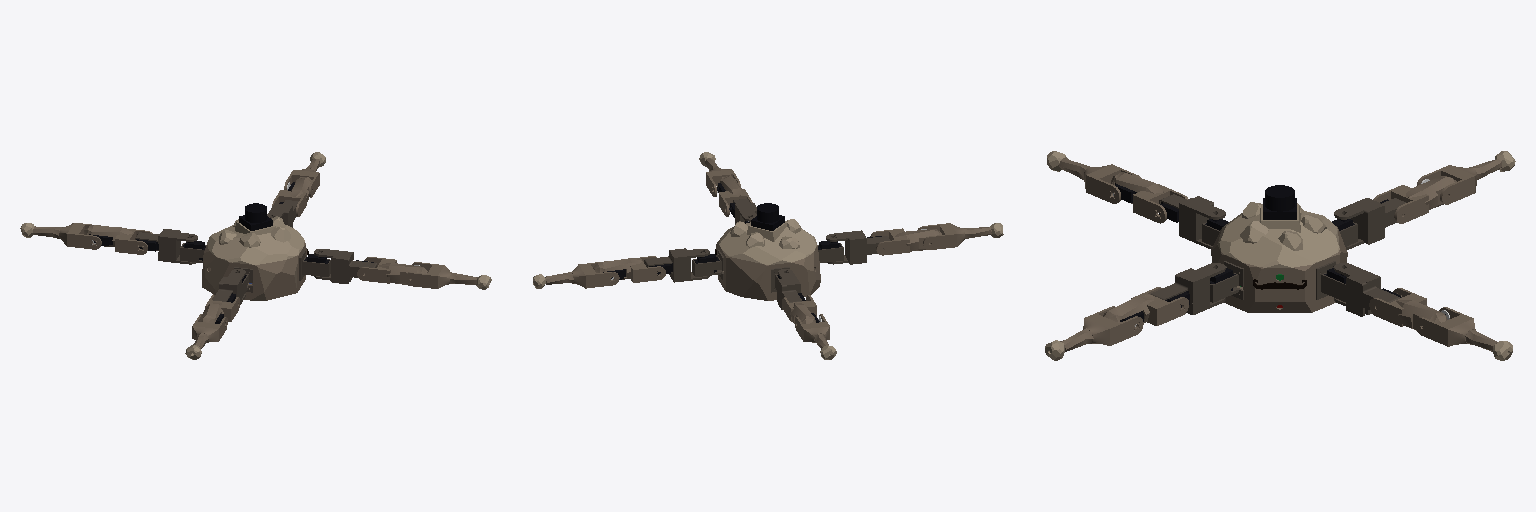
robot.urdf — rocky_bob:
<?xml version="1.0"?>
<!-- Generated by build.py: Rocky-Bob, rock body + 4 legs, HobbyPark 25 kg coreless servos. -->
<robot name="rocky_bob">
  <link name="base_link">
    <visual><geometry><mesh filename="meshes/rock_base.stl"/></geometry><material name="rock_base"><color rgba="0.47 0.42 0.37 1"/></material></visual>
    <visual><geometry><mesh filename="meshes/rock_lid.stl"/></geometry><material name="rock_lid"><color rgba="0.6 0.55 0.48 1"/></material></visual>
    <visual><geometry><mesh filename="meshes/pi5.stl"/></geometry><material name="pi5"><color rgba="0.1 0.45 0.2 1"/></material></visual>
    <visual><geometry><mesh filename="meshes/servo2040.stl"/></geometry><material name="servo2040"><color rgba="0.08 0.08 0.1 1"/></material></visual>
    <visual><geometry><mesh filename="meshes/psu.stl"/></geometry><material name="psu"><color rgba="0.25 0.35 0.6 1"/></material></visual>
    <visual><geometry><mesh filename="meshes/pi_camera.stl"/></geometry><material name="pi_camera"><color rgba="0.1 0.45 0.2 1"/></material></visual>
    <visual><geometry><mesh filename="meshes/mustache.stl"/></geometry><material name="mustache"><color rgba="0.1 0.07 0.05 1"/></material></visual>
    <visual><geometry><mesh filename="meshes/tof.stl"/></geometry><material name="tof"><color rgba="0.75 0.12 0.1 1"/></material></visual>
    <visual><geometry><mesh filename="meshes/lidar.stl"/></geometry><material name="lidar"><color rgba="0.08 0.08 0.1 1"/></material></visual>
    <collision><origin xyz="0.00000 0.00000 0.00000" rpy="0 0 0"/><geometry><mesh filename="meshes/rock_collision.stl"/></geometry></collision>
    <collision><origin xyz="0.00000 0.00000 0.12500" rpy="0 0 0"/><geometry><box size="0.06400 0.06400 0.02600"/></geometry></collision>
    <collision name="lidar"><origin xyz="0.00000 0.00000 0.15665" rpy="0 0 0"/><geometry><box size="0.05560 0.05560 0.04130"/></geometry></collision>
    <inertial><origin xyz="-0.01452 -0.00155 0.05871"/><mass value="0.7748"/><inertia ixx="3.716e-03" iyy="4.421e-03" izz="3.801e-03" ixy="5.903e-05" ixz="-4.213e-04" iyz="-3.749e-05"/></inertial>
  </link>
  <link name="leg0_mount">
    <visual><geometry><mesh filename="meshes/hip_pod.stl"/></geometry><material name="hip_pod"><color rgba="0.34 0.31 0.28 1"/></material></visual>
    <visual><geometry><mesh filename="meshes/servo_hip_yaw.stl"/></geometry><material name="servo_hip_yaw"><color rgba="0.1 0.1 0.12 1"/></material></visual>
    <collision><origin xyz="-0.02000 0.00000 -0.01000" rpy="0 0 0"/><geometry><box size="0.06500 0.04500 0.05600"/></geometry></collision>
    <inertial><origin xyz="-0.01176 -0.00010 -0.00481"/><mass value="0.0812"/><inertia ixx="1.511e-05" iyy="3.120e-05" izz="2.395e-05" ixy="-2.071e-07" ixz="-7.322e-07" iyz="-1.066e-07"/></inertial>
  </link>
  <link name="leg0_joint1_link">
    <visual><geometry><mesh filename="meshes/horn_hip_yaw.stl"/></geometry><material name="horn_hip_yaw"><color rgba="0.85 0.85 0.85 1"/></material></visual>
    <visual><geometry><mesh filename="meshes/coxa.stl"/></geometry><material name="coxa"><color rgba="0.34 0.31 0.28 1"/></material></visual>
    <visual><geometry><mesh filename="meshes/servo_hip_pitch.stl"/></geometry><material name="servo_hip_pitch"><color rgba="0.1 0.1 0.12 1"/></material></visual>
    <collision><origin xyz="0.06500 -0.01000 0.00000" rpy="0 0 0"/><geometry><box size="0.13000 0.05500 0.04000"/></geometry></collision>
    <inertial><origin xyz="0.07389 -0.00425 -0.00052"/><mass value="0.1366"/><inertia ixx="4.373e-05" iyy="1.538e-04" izz="1.468e-04" ixy="1.743e-06" ixz="-2.983e-06" iyz="6.516e-07"/></inertial>
  </link>
  <link name="leg0_joint2_link">
    <visual><geometry><mesh filename="meshes/horn_hip_pitch.stl"/></geometry><material name="horn_hip_pitch"><color rgba="0.85 0.85 0.85 1"/></material></visual>
    <visual><geometry><mesh filename="meshes/femur.stl"/></geometry><material name="femur"><color rgba="0.47 0.42 0.37 1"/></material></visual>
    <visual><geometry><mesh filename="meshes/servo_knee.stl"/></geometry><material name="servo_knee"><color rgba="0.1 0.1 0.12 1"/></material></visual>
    <collision><origin xyz="0.08460 -0.01050 0.00000" rpy="0 1.5708 0"/><geometry><cylinder radius="0.02400" length="0.10920"/></geometry></collision>
    <inertial><origin xyz="0.07952 -0.00478 0.00039"/><mass value="0.1454"/><inertia ixx="4.145e-05" iyy="1.639e-04" izz="1.808e-04" ixy="6.618e-06" ixz="1.768e-08" iyz="4.740e-07"/></inertial>
  </link>
  <link name="leg0_joint3_link">
    <visual><geometry><mesh filename="meshes/horn_knee.stl"/></geometry><material name="horn_knee"><color rgba="0.85 0.85 0.85 1"/></material></visual>
    <visual><geometry><mesh filename="meshes/tibia.stl"/></geometry><material name="tibia"><color rgba="0.47 0.42 0.37 1"/></material></visual>
    <visual><geometry><mesh filename="meshes/foot.stl"/></geometry><material name="foot"><color rgba="0.6 0.55 0.48 1"/></material></visual>
    <collision><origin xyz="0.09200 -0.00175 0.00000" rpy="0 1.5708 0"/><geometry><cylinder radius="0.01300" length="0.10400"/></geometry></collision>
    <collision><origin xyz="0.16000 -0.00175 0.00000" rpy="0 0 0"/><geometry><sphere radius="0.01600"/></geometry></collision>
    <inertial><origin xyz="0.07456 -0.00185 -0.00008"/><mass value="0.0729"/><inertia ixx="2.362e-05" iyy="1.538e-04" izz="1.675e-04" ixy="-3.409e-07" ixz="4.865e-07" iyz="-2.598e-08"/></inertial>
  </link>
  <joint name="leg0_mount_fixed" type="fixed"><parent link="base_link"/><child link="leg0_mount"/><origin xyz="-0.10624 -0.10624 0.06000" rpy="0 0 3.926991"/></joint>
  <joint name="joint1_leg0" type="revolute"><parent link="leg0_mount"/><child link="leg0_joint1_link"/><origin xyz="0.00000 0.00000 0.00000"/><axis xyz="0 0 1"/><limit lower="-1.5708" upper="1.5708" effort="2.45" velocity="8.0"/></joint>
  <joint name="joint3_leg0" type="revolute"><parent link="leg0_joint1_link"/><child link="leg0_joint2_link"/><origin xyz="0.10720 0.00000 0.00000"/><axis xyz="0 1 0"/><limit lower="-1.5708" upper="1.5708" effort="2.45" velocity="8.0"/></joint>
  <joint name="joint4_leg0" type="revolute"><parent link="leg0_joint2_link"/><child link="leg0_joint3_link"/><origin xyz="0.10720 0.00000 0.00000"/><axis xyz="0 1 0"/><limit lower="-1.5708" upper="1.5708" effort="2.45" velocity="8.0"/></joint>
  <link name="leg0_foot"/>
  <joint name="leg0_foot_fixed" type="fixed"><parent link="leg0_joint3_link"/><child link="leg0_foot"/><origin xyz="0.16000 -0.00175 0"/></joint>
  <link name="leg1_mount">
    <visual><geometry><mesh filename="meshes/hip_pod.stl"/></geometry><material name="hip_pod"><color rgba="0.34 0.31 0.28 1"/></material></visual>
    <visual><geometry><mesh filename="meshes/servo_hip_yaw.stl"/></geometry><material name="servo_hip_yaw"><color rgba="0.1 0.1 0.12 1"/></material></visual>
    <collision><origin xyz="-0.02000 0.00000 -0.01000" rpy="0 0 0"/><geometry><box size="0.06500 0.04500 0.05600"/></geometry></collision>
    <inertial><origin xyz="-0.01176 -0.00010 -0.00481"/><mass value="0.0812"/><inertia ixx="1.511e-05" iyy="3.120e-05" izz="2.395e-05" ixy="-2.071e-07" ixz="-7.322e-07" iyz="-1.066e-07"/></inertial>
  </link>
  <link name="leg1_joint1_link">
    <visual><geometry><mesh filename="meshes/horn_hip_yaw.stl"/></geometry><material name="horn_hip_yaw"><color rgba="0.85 0.85 0.85 1"/></material></visual>
    <visual><geometry><mesh filename="meshes/coxa.stl"/></geometry><material name="coxa"><color rgba="0.34 0.31 0.28 1"/></material></visual>
    <visual><geometry><mesh filename="meshes/servo_hip_pitch.stl"/></geometry><material name="servo_hip_pitch"><color rgba="0.1 0.1 0.12 1"/></material></visual>
    <collision><origin xyz="0.06500 -0.01000 0.00000" rpy="0 0 0"/><geometry><box size="0.13000 0.05500 0.04000"/></geometry></collision>
    <inertial><origin xyz="0.07389 -0.00425 -0.00052"/><mass value="0.1366"/><inertia ixx="4.373e-05" iyy="1.538e-04" izz="1.468e-04" ixy="1.743e-06" ixz="-2.983e-06" iyz="6.516e-07"/></inertial>
  </link>
  <link name="leg1_joint2_link">
    <visual><geometry><mesh filename="meshes/horn_hip_pitch.stl"/></geometry><material name="horn_hip_pitch"><color rgba="0.85 0.85 0.85 1"/></material></visual>
    <visual><geometry><mesh filename="meshes/femur.stl"/></geometry><material name="femur"><color rgba="0.47 0.42 0.37 1"/></material></visual>
    <visual><geometry><mesh filename="meshes/servo_knee.stl"/></geometry><material name="servo_knee"><color rgba="0.1 0.1 0.12 1"/></material></visual>
    <collision><origin xyz="0.08460 -0.01050 0.00000" rpy="0 1.5708 0"/><geometry><cylinder radius="0.02400" length="0.10920"/></geometry></collision>
    <inertial><origin xyz="0.07952 -0.00478 0.00039"/><mass value="0.1454"/><inertia ixx="4.145e-05" iyy="1.639e-04" izz="1.808e-04" ixy="6.618e-06" ixz="1.768e-08" iyz="4.740e-07"/></inertial>
  </link>
  <link name="leg1_joint3_link">
    <visual><geometry><mesh filename="meshes/horn_knee.stl"/></geometry><material name="horn_knee"><color rgba="0.85 0.85 0.85 1"/></material></visual>
    <visual><geometry><mesh filename="meshes/tibia.stl"/></geometry><material name="tibia"><color rgba="0.47 0.42 0.37 1"/></material></visual>
    <visual><geometry><mesh filename="meshes/foot.stl"/></geometry><material name="foot"><color rgba="0.6 0.55 0.48 1"/></material></visual>
    <collision><origin xyz="0.09200 -0.00175 0.00000" rpy="0 1.5708 0"/><geometry><cylinder radius="0.01300" length="0.10400"/></geometry></collision>
    <collision><origin xyz="0.16000 -0.00175 0.00000" rpy="0 0 0"/><geometry><sphere radius="0.01600"/></geometry></collision>
    <inertial><origin xyz="0.07456 -0.00185 -0.00008"/><mass value="0.0729"/><inertia ixx="2.362e-05" iyy="1.538e-04" izz="1.675e-04" ixy="-3.409e-07" ixz="4.865e-07" iyz="-2.598e-08"/></inertial>
  </link>
  <joint name="leg1_mount_fixed" type="fixed"><parent link="base_link"/><child link="leg1_mount"/><origin xyz="-0.10624 0.10624 0.06000" rpy="0 0 2.356194"/></joint>
  <joint name="joint1_leg1" type="revolute"><parent link="leg1_mount"/><child link="leg1_joint1_link"/><origin xyz="0.00000 0.00000 0.00000"/><axis xyz="0 0 1"/><limit lower="-1.5708" upper="1.5708" effort="2.45" velocity="8.0"/></joint>
  <joint name="joint3_leg1" type="revolute"><parent link="leg1_joint1_link"/><child link="leg1_joint2_link"/><origin xyz="0.10720 0.00000 0.00000"/><axis xyz="0 1 0"/><limit lower="-1.5708" upper="1.5708" effort="2.45" velocity="8.0"/></joint>
  <joint name="joint4_leg1" type="revolute"><parent link="leg1_joint2_link"/><child link="leg1_joint3_link"/><origin xyz="0.10720 0.00000 0.00000"/><axis xyz="0 1 0"/><limit lower="-1.5708" upper="1.5708" effort="2.45" velocity="8.0"/></joint>
  <link name="leg1_foot"/>
  <joint name="leg1_foot_fixed" type="fixed"><parent link="leg1_joint3_link"/><child link="leg1_foot"/><origin xyz="0.16000 -0.00175 0"/></joint>
  <link name="leg2_mount">
    <visual><geometry><mesh filename="meshes/hip_pod.stl"/></geometry><material name="hip_pod"><color rgba="0.34 0.31 0.28 1"/></material></visual>
    <visual><geometry><mesh filename="meshes/servo_hip_yaw.stl"/></geometry><material name="servo_hip_yaw"><color rgba="0.1 0.1 0.12 1"/></material></visual>
    <collision><origin xyz="-0.02000 0.00000 -0.01000" rpy="0 0 0"/><geometry><box size="0.06500 0.04500 0.05600"/></geometry></collision>
    <inertial><origin xyz="-0.01176 -0.00010 -0.00481"/><mass value="0.0812"/><inertia ixx="1.511e-05" iyy="3.120e-05" izz="2.395e-05" ixy="-2.071e-07" ixz="-7.322e-07" iyz="-1.066e-07"/></inertial>
  </link>
  <link name="leg2_joint1_link">
    <visual><geometry><mesh filename="meshes/horn_hip_yaw.stl"/></geometry><material name="horn_hip_yaw"><color rgba="0.85 0.85 0.85 1"/></material></visual>
    <visual><geometry><mesh filename="meshes/coxa.stl"/></geometry><material name="coxa"><color rgba="0.34 0.31 0.28 1"/></material></visual>
    <visual><geometry><mesh filename="meshes/servo_hip_pitch.stl"/></geometry><material name="servo_hip_pitch"><color rgba="0.1 0.1 0.12 1"/></material></visual>
    <collision><origin xyz="0.06500 -0.01000 0.00000" rpy="0 0 0"/><geometry><box size="0.13000 0.05500 0.04000"/></geometry></collision>
    <inertial><origin xyz="0.07389 -0.00425 -0.00052"/><mass value="0.1366"/><inertia ixx="4.373e-05" iyy="1.538e-04" izz="1.468e-04" ixy="1.743e-06" ixz="-2.983e-06" iyz="6.516e-07"/></inertial>
  </link>
  <link name="leg2_joint2_link">
    <visual><geometry><mesh filename="meshes/horn_hip_pitch.stl"/></geometry><material name="horn_hip_pitch"><color rgba="0.85 0.85 0.85 1"/></material></visual>
    <visual><geometry><mesh filename="meshes/femur.stl"/></geometry><material name="femur"><color rgba="0.47 0.42 0.37 1"/></material></visual>
    <visual><geometry><mesh filename="meshes/servo_knee.stl"/></geometry><material name="servo_knee"><color rgba="0.1 0.1 0.12 1"/></material></visual>
    <collision><origin xyz="0.08460 -0.01050 0.00000" rpy="0 1.5708 0"/><geometry><cylinder radius="0.02400" length="0.10920"/></geometry></collision>
    <inertial><origin xyz="0.07952 -0.00478 0.00039"/><mass value="0.1454"/><inertia ixx="4.145e-05" iyy="1.639e-04" izz="1.808e-04" ixy="6.618e-06" ixz="1.768e-08" iyz="4.740e-07"/></inertial>
  </link>
  <link name="leg2_joint3_link">
    <visual><geometry><mesh filename="meshes/horn_knee.stl"/></geometry><material name="horn_knee"><color rgba="0.85 0.85 0.85 1"/></material></visual>
    <visual><geometry><mesh filename="meshes/tibia.stl"/></geometry><material name="tibia"><color rgba="0.47 0.42 0.37 1"/></material></visual>
    <visual><geometry><mesh filename="meshes/foot.stl"/></geometry><material name="foot"><color rgba="0.6 0.55 0.48 1"/></material></visual>
    <collision><origin xyz="0.09200 -0.00175 0.00000" rpy="0 1.5708 0"/><geometry><cylinder radius="0.01300" length="0.10400"/></geometry></collision>
    <collision><origin xyz="0.16000 -0.00175 0.00000" rpy="0 0 0"/><geometry><sphere radius="0.01600"/></geometry></collision>
    <inertial><origin xyz="0.07456 -0.00185 -0.00008"/><mass value="0.0729"/><inertia ixx="2.362e-05" iyy="1.538e-04" izz="1.675e-04" ixy="-3.409e-07" ixz="4.865e-07" iyz="-2.598e-08"/></inertial>
  </link>
  <joint name="leg2_mount_fixed" type="fixed"><parent link="base_link"/><child link="leg2_mount"/><origin xyz="0.10624 0.10624 0.06000" rpy="0 0 0.785398"/></joint>
  <joint name="joint1_leg2" type="revolute"><parent link="leg2_mount"/><child link="leg2_joint1_link"/><origin xyz="0.00000 0.00000 0.00000"/><axis xyz="0 0 1"/><limit lower="-1.5708" upper="1.5708" effort="2.45" velocity="8.0"/></joint>
  <joint name="joint3_leg2" type="revolute"><parent link="leg2_joint1_link"/><child link="leg2_joint2_link"/><origin xyz="0.10720 0.00000 0.00000"/><axis xyz="0 1 0"/><limit lower="-1.5708" upper="1.5708" effort="2.45" velocity="8.0"/></joint>
  <joint name="joint4_leg2" type="revolute"><parent link="leg2_joint2_link"/><child link="leg2_joint3_link"/><origin xyz="0.10720 0.00000 0.00000"/><axis xyz="0 1 0"/><limit lower="-1.5708" upper="1.5708" effort="2.45" velocity="8.0"/></joint>
  <link name="leg2_foot"/>
  <joint name="leg2_foot_fixed" type="fixed"><parent link="leg2_joint3_link"/><child link="leg2_foot"/><origin xyz="0.16000 -0.00175 0"/></joint>
  <link name="leg3_mount">
    <visual><geometry><mesh filename="meshes/hip_pod.stl"/></geometry><material name="hip_pod"><color rgba="0.34 0.31 0.28 1"/></material></visual>
    <visual><geometry><mesh filename="meshes/servo_hip_yaw.stl"/></geometry><material name="servo_hip_yaw"><color rgba="0.1 0.1 0.12 1"/></material></visual>
    <collision><origin xyz="-0.02000 0.00000 -0.01000" rpy="0 0 0"/><geometry><box size="0.06500 0.04500 0.05600"/></geometry></collision>
    <inertial><origin xyz="-0.01176 -0.00010 -0.00481"/><mass value="0.0812"/><inertia ixx="1.511e-05" iyy="3.120e-05" izz="2.395e-05" ixy="-2.071e-07" ixz="-7.322e-07" iyz="-1.066e-07"/></inertial>
  </link>
  <link name="leg3_joint1_link">
    <visual><geometry><mesh filename="meshes/horn_hip_yaw.stl"/></geometry><material name="horn_hip_yaw"><color rgba="0.85 0.85 0.85 1"/></material></visual>
    <visual><geometry><mesh filename="meshes/coxa.stl"/></geometry><material name="coxa"><color rgba="0.34 0.31 0.28 1"/></material></visual>
    <visual><geometry><mesh filename="meshes/servo_hip_pitch.stl"/></geometry><material name="servo_hip_pitch"><color rgba="0.1 0.1 0.12 1"/></material></visual>
    <collision><origin xyz="0.06500 -0.01000 0.00000" rpy="0 0 0"/><geometry><box size="0.13000 0.05500 0.04000"/></geometry></collision>
    <inertial><origin xyz="0.07389 -0.00425 -0.00052"/><mass value="0.1366"/><inertia ixx="4.373e-05" iyy="1.538e-04" izz="1.468e-04" ixy="1.743e-06" ixz="-2.983e-06" iyz="6.516e-07"/></inertial>
  </link>
  <link name="leg3_joint2_link">
    <visual><geometry><mesh filename="meshes/horn_hip_pitch.stl"/></geometry><material name="horn_hip_pitch"><color rgba="0.85 0.85 0.85 1"/></material></visual>
    <visual><geometry><mesh filename="meshes/femur.stl"/></geometry><material name="femur"><color rgba="0.47 0.42 0.37 1"/></material></visual>
    <visual><geometry><mesh filename="meshes/servo_knee.stl"/></geometry><material name="servo_knee"><color rgba="0.1 0.1 0.12 1"/></material></visual>
    <collision><origin xyz="0.08460 -0.01050 0.00000" rpy="0 1.5708 0"/><geometry><cylinder radius="0.02400" length="0.10920"/></geometry></collision>
    <inertial><origin xyz="0.07952 -0.00478 0.00039"/><mass value="0.1454"/><inertia ixx="4.145e-05" iyy="1.639e-04" izz="1.808e-04" ixy="6.618e-06" ixz="1.768e-08" iyz="4.740e-07"/></inertial>
  </link>
  <link name="leg3_joint3_link">
    <visual><geometry><mesh filename="meshes/horn_knee.stl"/></geometry><material name="horn_knee"><color rgba="0.85 0.85 0.85 1"/></material></visual>
    <visual><geometry><mesh filename="meshes/tibia.stl"/></geometry><material name="tibia"><color rgba="0.47 0.42 0.37 1"/></material></visual>
    <visual><geometry><mesh filename="meshes/foot.stl"/></geometry><material name="foot"><color rgba="0.6 0.55 0.48 1"/></material></visual>
    <collision><origin xyz="0.09200 -0.00175 0.00000" rpy="0 1.5708 0"/><geometry><cylinder radius="0.01300" length="0.10400"/></geometry></collision>
    <collision><origin xyz="0.16000 -0.00175 0.00000" rpy="0 0 0"/><geometry><sphere radius="0.01600"/></geometry></collision>
    <inertial><origin xyz="0.07456 -0.00185 -0.00008"/><mass value="0.0729"/><inertia ixx="2.362e-05" iyy="1.538e-04" izz="1.675e-04" ixy="-3.409e-07" ixz="4.865e-07" iyz="-2.598e-08"/></inertial>
  </link>
  <joint name="leg3_mount_fixed" type="fixed"><parent link="base_link"/><child link="leg3_mount"/><origin xyz="0.10624 -0.10624 0.06000" rpy="0 0 -0.785398"/></joint>
  <joint name="joint1_leg3" type="revolute"><parent link="leg3_mount"/><child link="leg3_joint1_link"/><origin xyz="0.00000 0.00000 0.00000"/><axis xyz="0 0 1"/><limit lower="-1.5708" upper="1.5708" effort="2.45" velocity="8.0"/></joint>
  <joint name="joint3_leg3" type="revolute"><parent link="leg3_joint1_link"/><child link="leg3_joint2_link"/><origin xyz="0.10720 0.00000 0.00000"/><axis xyz="0 1 0"/><limit lower="-1.5708" upper="1.5708" effort="2.45" velocity="8.0"/></joint>
  <joint name="joint4_leg3" type="revolute"><parent link="leg3_joint2_link"/><child link="leg3_joint3_link"/><origin xyz="0.10720 0.00000 0.00000"/><axis xyz="0 1 0"/><limit lower="-1.5708" upper="1.5708" effort="2.45" velocity="8.0"/></joint>
  <link name="leg3_foot"/>
  <joint name="leg3_foot_fixed" type="fixed"><parent link="leg3_joint3_link"/><child link="leg3_foot"/><origin xyz="0.16000 -0.00175 0"/></joint>
</robot>

--- What the picture shows (computed from the rendered views, not written in the file) ---
The picture shows the robot from 3 angles, left to right: view 1: azimuth 30°, elevation 25°; view 2: azimuth 150°, elevation 25°; view 3: azimuth 270°, elevation 25°; orthographic projection.
Robot: rocky_bob — 21 links, 20 joints (12 revolute, 8 fixed); root link base_link; default pose: every joint at zero.
Links seen in each view (by area): view 1: base_link, leg3_joint3_link, leg1_joint3_link, leg1_joint1_link, leg1_joint2_link, leg3_joint2_link, leg3_joint1_link, leg0_joint3_link, leg0_joint2_link, leg0_joint1_link, leg2_joint2_link, leg2_joint3_link (+1 smaller); view 2: base_link, leg0_joint3_link, leg2_joint3_link, leg2_joint1_link, leg0_joint2_link, leg2_joint2_link, leg0_joint1_link, leg1_joint3_link, leg1_joint1_link, leg1_joint2_link, leg3_joint2_link, leg3_joint3_link (+1 smaller); view 3: base_link, leg2_joint3_link, leg3_joint3_link, leg1_joint1_link, leg3_joint1_link, leg1_joint3_link, leg0_joint1_link, leg0_joint2_link, leg2_joint1_link, leg3_joint2_link, leg1_joint2_link, leg0_joint3_link (+3 smaller).
Link boxes in pixels (<box>): base_link: <box>202,203,308,300</box>; leg3_joint3_link: <box>404,262,491,289</box>; leg1_joint3_link: <box>20,223,101,249</box>; leg1_joint1_link: <box>135,229,197,264</box>; leg1_joint2_link: <box>84,225,152,254</box>; leg3_joint2_link: <box>357,257,427,284</box>; leg3_joint1_link: <box>314,249,376,283</box>; leg0_joint3_link: <box>185,314,227,359</box>; leg0_joint2_link: <box>199,294,239,323</box>; leg0_joint1_link: <box>213,269,245,304</box>; leg2_joint2_link: <box>272,177,311,216</box>; leg2_joint3_link: <box>284,152,325,197</box>; base_link: <box>715,203,820,300</box>; leg0_joint3_link: <box>918,223,1003,249</box>; leg2_joint3_link: <box>533,261,619,288</box>; leg2_joint1_link: <box>644,248,709,282</box>; leg0_joint2_link: <box>870,228,941,255</box>; leg2_joint2_link: <box>593,256,665,282</box>; leg0_joint1_link: <box>826,230,890,264</box>; leg1_joint3_link: <box>795,314,836,359</box>; leg1_joint1_link: <box>777,269,805,309</box>; leg1_joint2_link: <box>782,295,819,323</box>; leg3_joint2_link: <box>717,175,752,216</box>; leg3_joint3_link: <box>699,152,740,196</box>; base_link: <box>1211,185,1347,312</box>; leg2_joint3_link: <box>1415,307,1512,360</box>; leg3_joint3_link: <box>1045,306,1143,360</box>; leg1_joint1_link: <box>1334,198,1405,249</box>; leg3_joint1_link: <box>1151,263,1225,314</box>; leg1_joint3_link: <box>1417,151,1515,204</box>; leg0_joint1_link: <box>1159,194,1225,248</box>; leg0_joint2_link: <box>1111,172,1187,223</box>; leg2_joint1_link: <box>1334,263,1400,316</box>; leg3_joint2_link: <box>1103,287,1188,325</box>; leg1_joint2_link: <box>1373,176,1456,223</box>; leg0_joint3_link: <box>1047,151,1140,203</box>.
Size in the robot's own frame: 0.7817 by 0.7817 by 0.1773 metres.
Meshes: 20 distinct files referenced, 49 mesh visuals loaded (19 binary STL); not drawn: 4 (reference not matched to a file when rendering).
